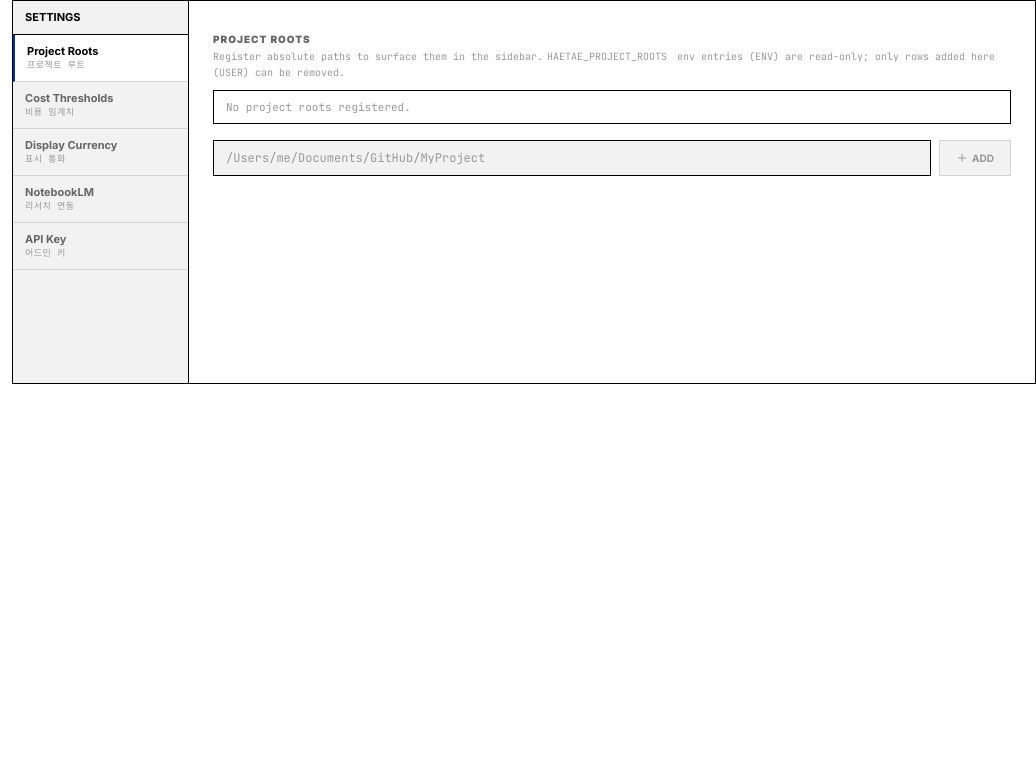
Test: SettingsView — Project Roots › shows a duplicate-source toast when the server replies 409
In the field with placeholder "/Users/me/Documents/GitHub/MyProject": (572, 158) [213,140,931,176], type "/x/Alpha"
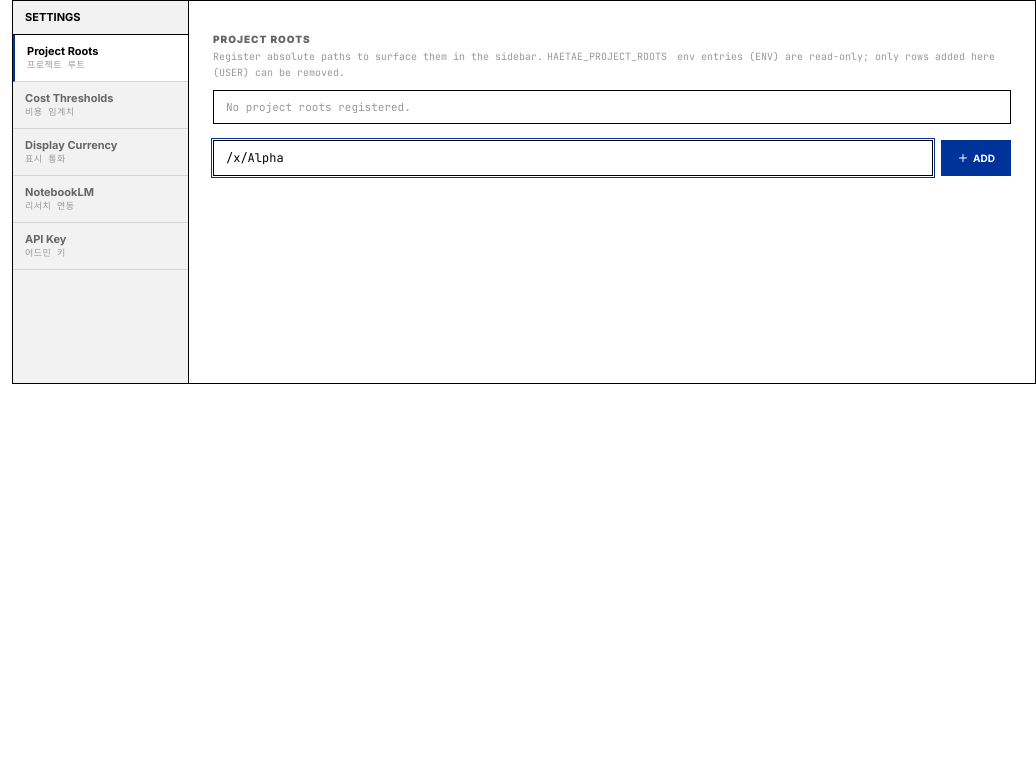
Click the button "Add": (976, 158) [941,140,1011,176]
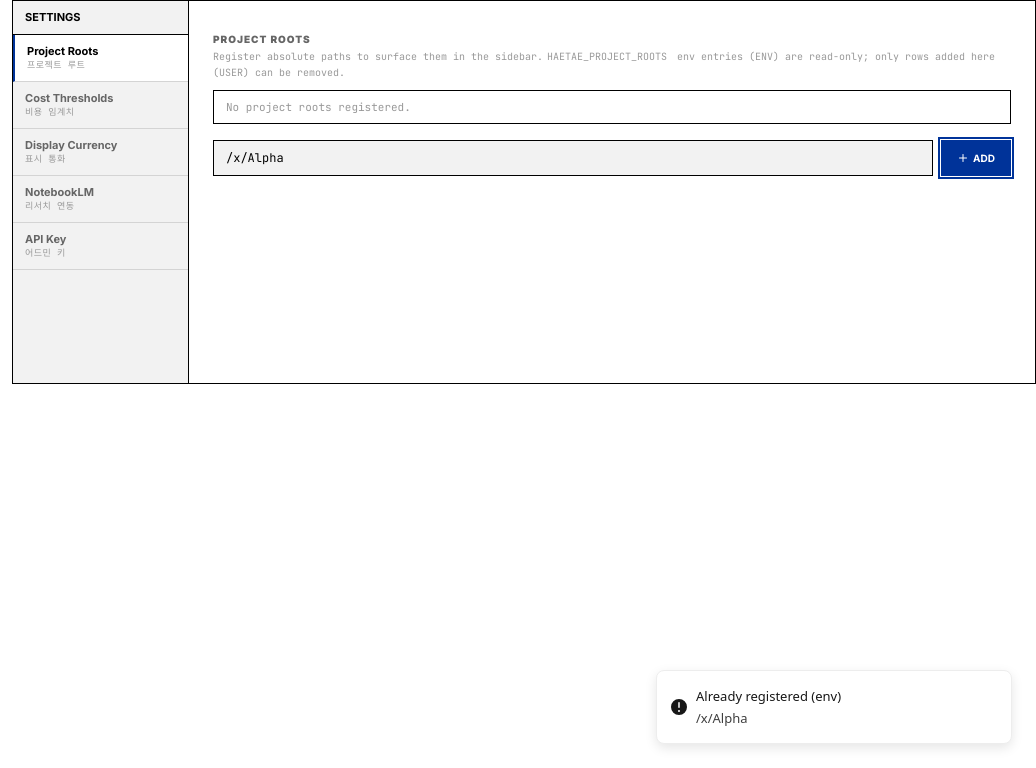
Expected: the text "Already registered (env)" is shown, [696,687,841,707]
